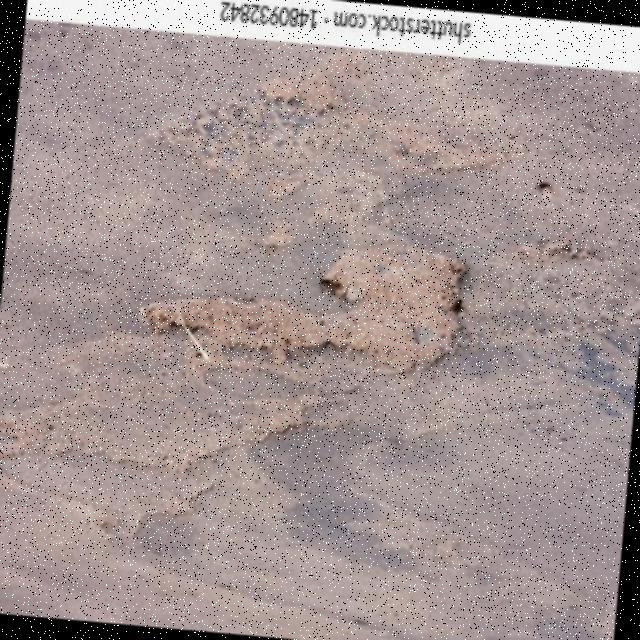Pothole: (137, 242, 467, 374)
